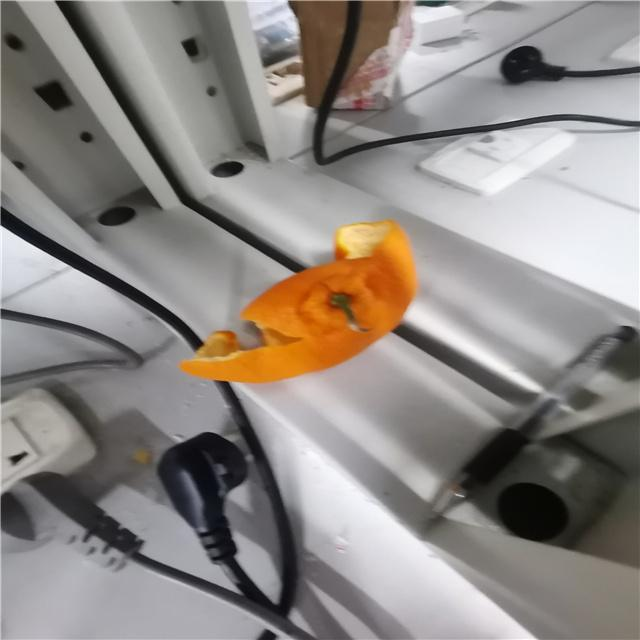orange-peel: (178, 217, 418, 385)
